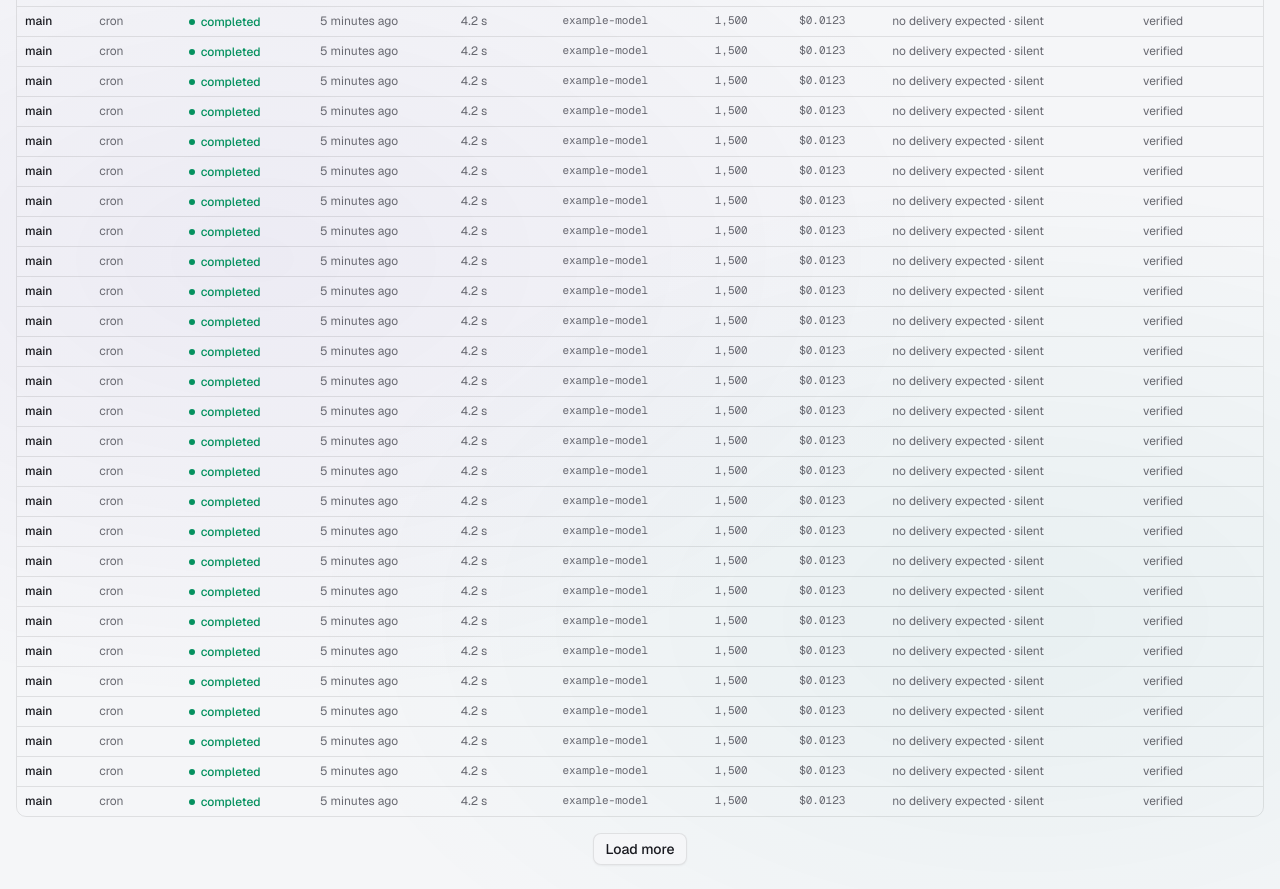
Test: RunsView page › loads the next page when the last one was full
(page scrolled)
Click the button with test id "runs-more".
click(640, 849)  # box [592,833,688,865]
(page scrolled)
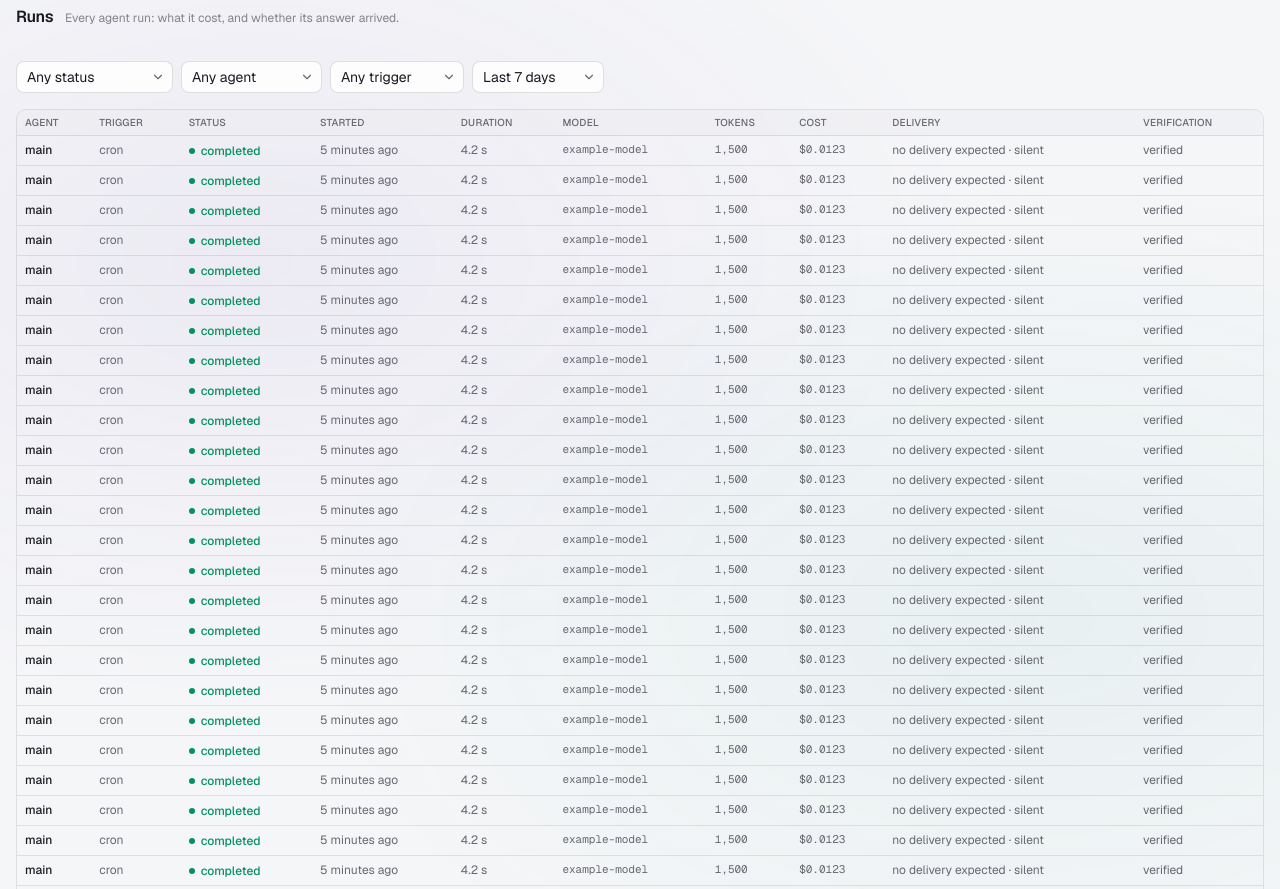
Expected: the row with test id "run-row-p0" is shown, [17,136,1263,166]
Expected: the button with test id "runs-more" is gone
